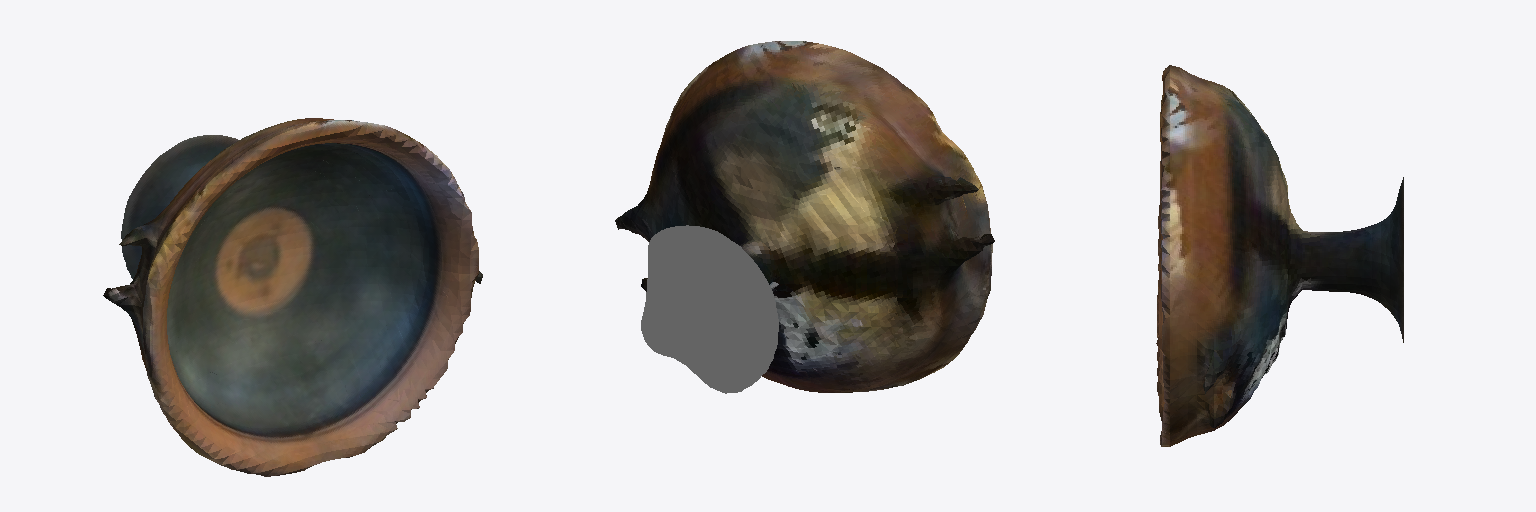
The picture shows the model from 3 angles: view 1: azimuth 30°, elevation 25°; view 2: azimuth 150°, elevation 25°; view 3: azimuth 270°, elevation 25°; orthographic projection.
Parts seen in each view (by area): view 1: Object.1; view 2: Object.1; view 3: Object.1.
Boxes of the visible parts, x1,y1,x2,y2 form: Object.1: [103, 118, 482, 476]; Object.1: [615, 41, 994, 393]; Object.1: [1156, 65, 1403, 446].
Size of the model in its own units: 45.69 by 39.44 by 25.77.
1 materials, 1 textured.